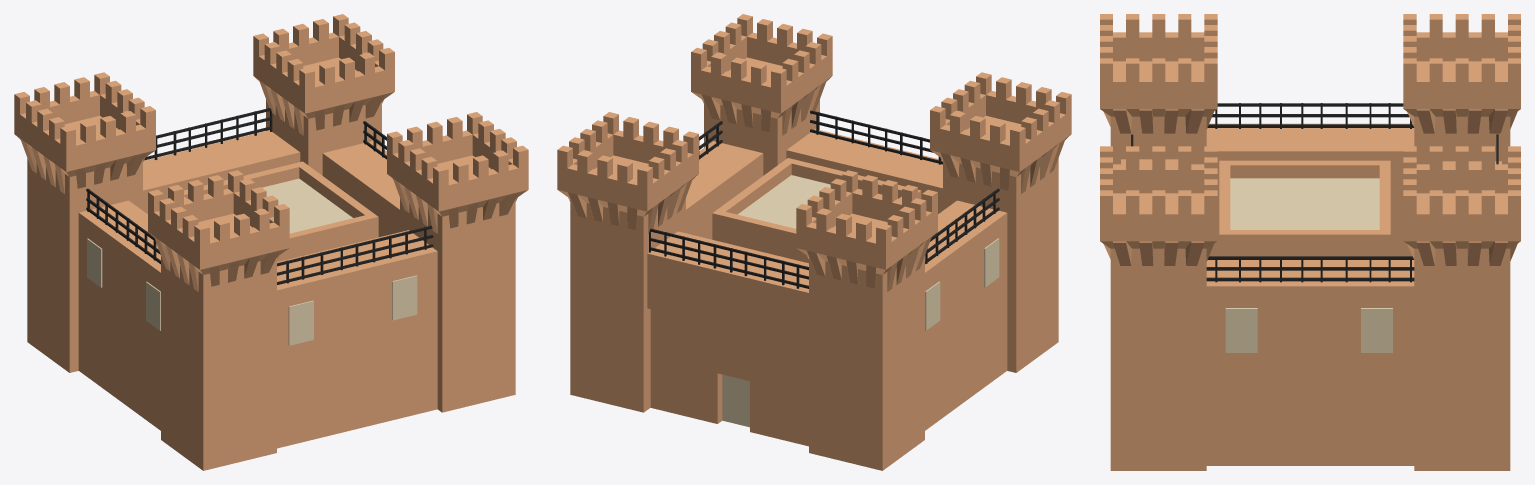
File: Fortress.gltf
3 renders of one model, left to right at view 1: azimuth 30°, elevation 25°; view 2: azimuth 150°, elevation 25°; view 3: azimuth 270°, elevation 25°, orthographic. The views are drawn at different scales.
Visible parts, largest first — view 1: node-0; view 2: node-0; view 3: node-0.
Part boxes in pixels (bbox=[...]): node-0: bbox=[14, 14, 528, 470]; node-0: bbox=[557, 14, 1071, 470]; node-0: bbox=[1100, 14, 1520, 470].
Bounding box in the file's own units: 527392 × 377585 × 515318.
